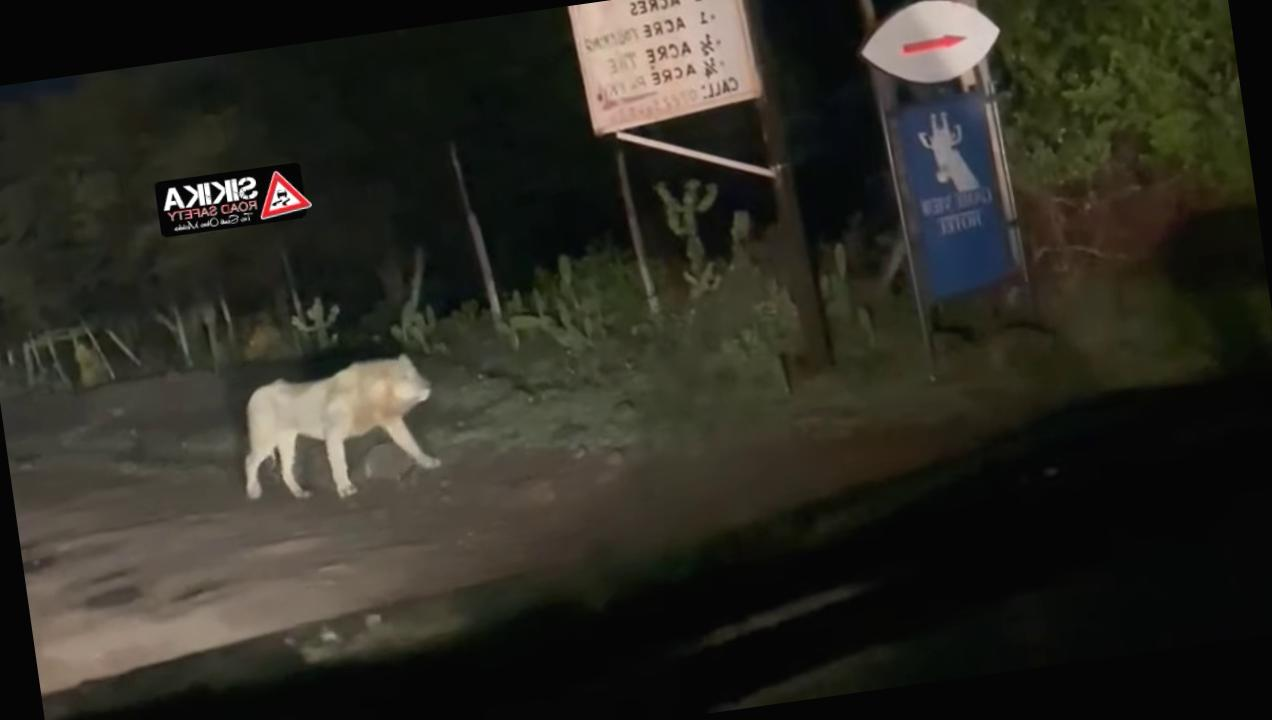lions: (217, 332, 458, 522)
